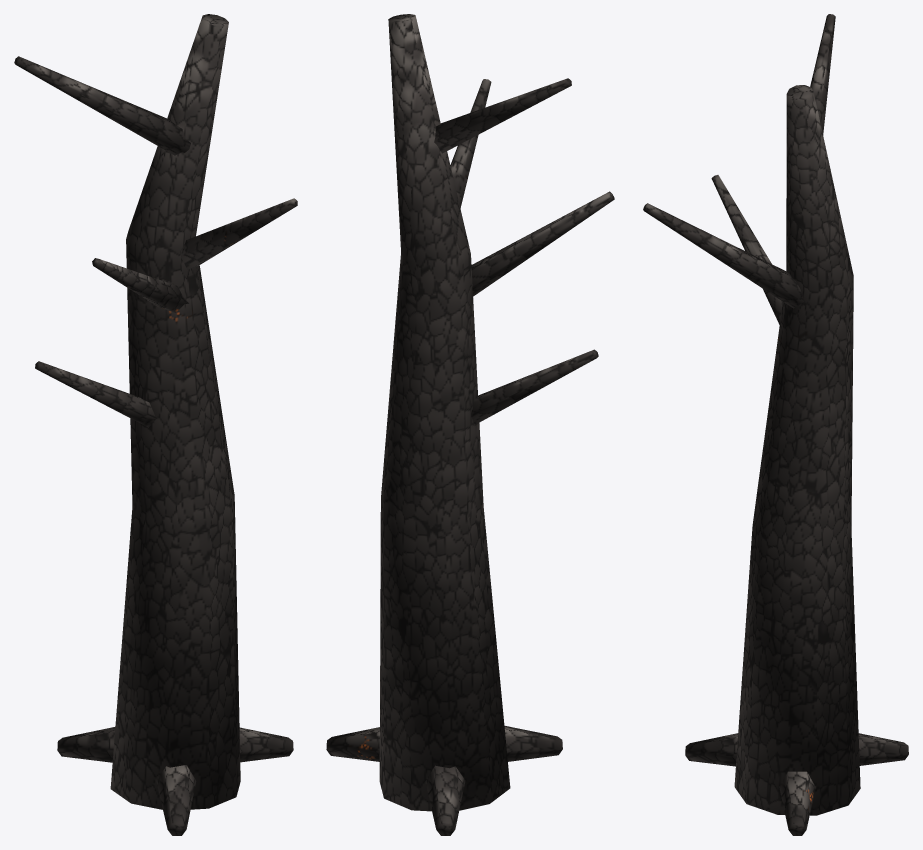
File: charred_tree_b.glb
The picture shows the model from 3 angles, left to right: view 1: azimuth 30°, elevation 25°; view 2: azimuth 150°, elevation 25°; view 3: azimuth 270°, elevation 25°; orthographic projection. The views are drawn at different scales.
Parts seen in each view (by area): view 1: Trunk; view 2: Trunk; view 3: Trunk.
Part boxes in pixels (x1,y1,x2,y2): Trunk: (14,14,297,835); Trunk: (326,14,614,835); Trunk: (643,14,908,835).
Bounding box in the file's own units: 1.27 × 3.53 × 1.18.
1 material, 1 textured.
